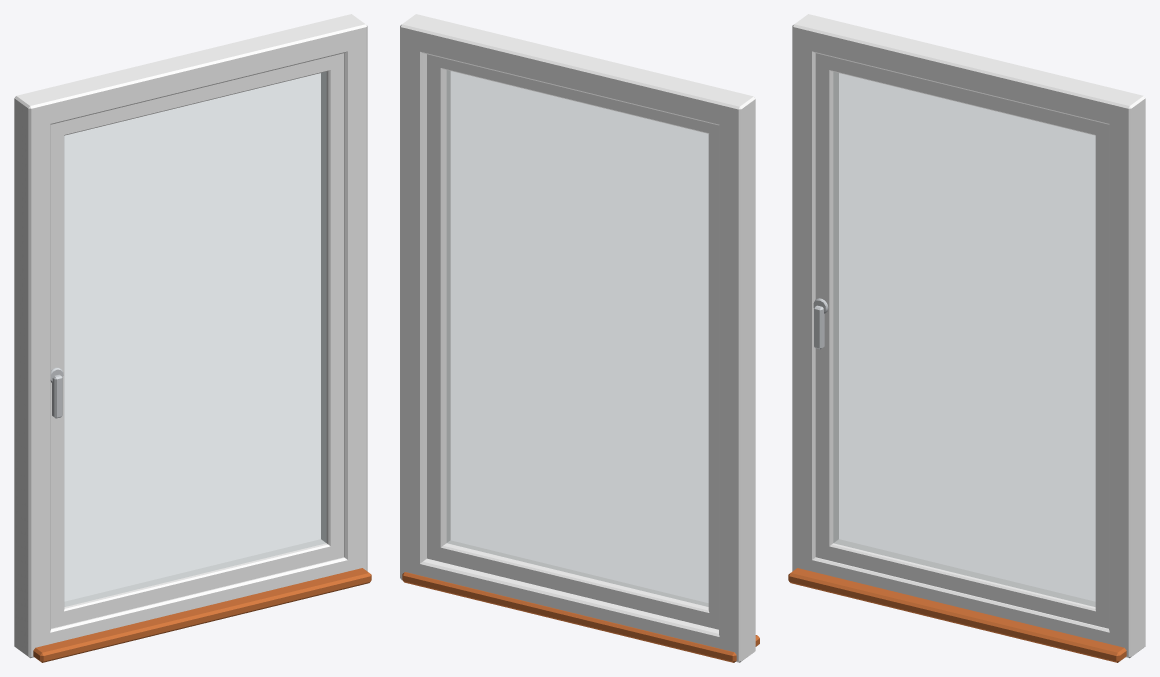
File: window-900x1400.glb
3 renders of one model, left to right at view 1: azimuth 30°, elevation 25°; view 2: azimuth 150°, elevation 25°; view 3: azimuth 330°, elevation 25°, orthographic.
Parts seen in each view (by area): view 1: window-900x1400.glass, window-900x1400.tint, window-900x1400.accent, window-900x1400.chrome; view 2: window-900x1400.glass, window-900x1400.tint, window-900x1400.accent; view 3: window-900x1400.glass, window-900x1400.tint, window-900x1400.accent, window-900x1400.chrome.
Part boxes in pixels (x1,y1,x2,y2): window-900x1400.glass: (64, 72, 326, 606); window-900x1400.tint: (14, 14, 367, 658); window-900x1400.accent: (33, 568, 371, 662); window-900x1400.chrome: (50, 367, 63, 418); window-900x1400.glass: (447, 70, 708, 606); window-900x1400.tint: (400, 14, 755, 662); window-900x1400.accent: (402, 572, 759, 662); window-900x1400.glass: (833, 72, 1095, 606); window-900x1400.tint: (792, 14, 1145, 658); window-900x1400.accent: (788, 568, 1126, 662); window-900x1400.chrome: (813, 298, 828, 349).
Bounding box in the file's own units: 0.9 × 1.4 × 0.12.
